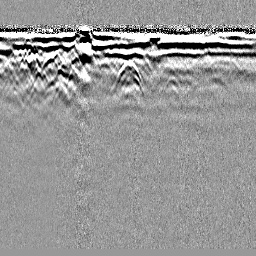cavity: (111, 59, 145, 93)
